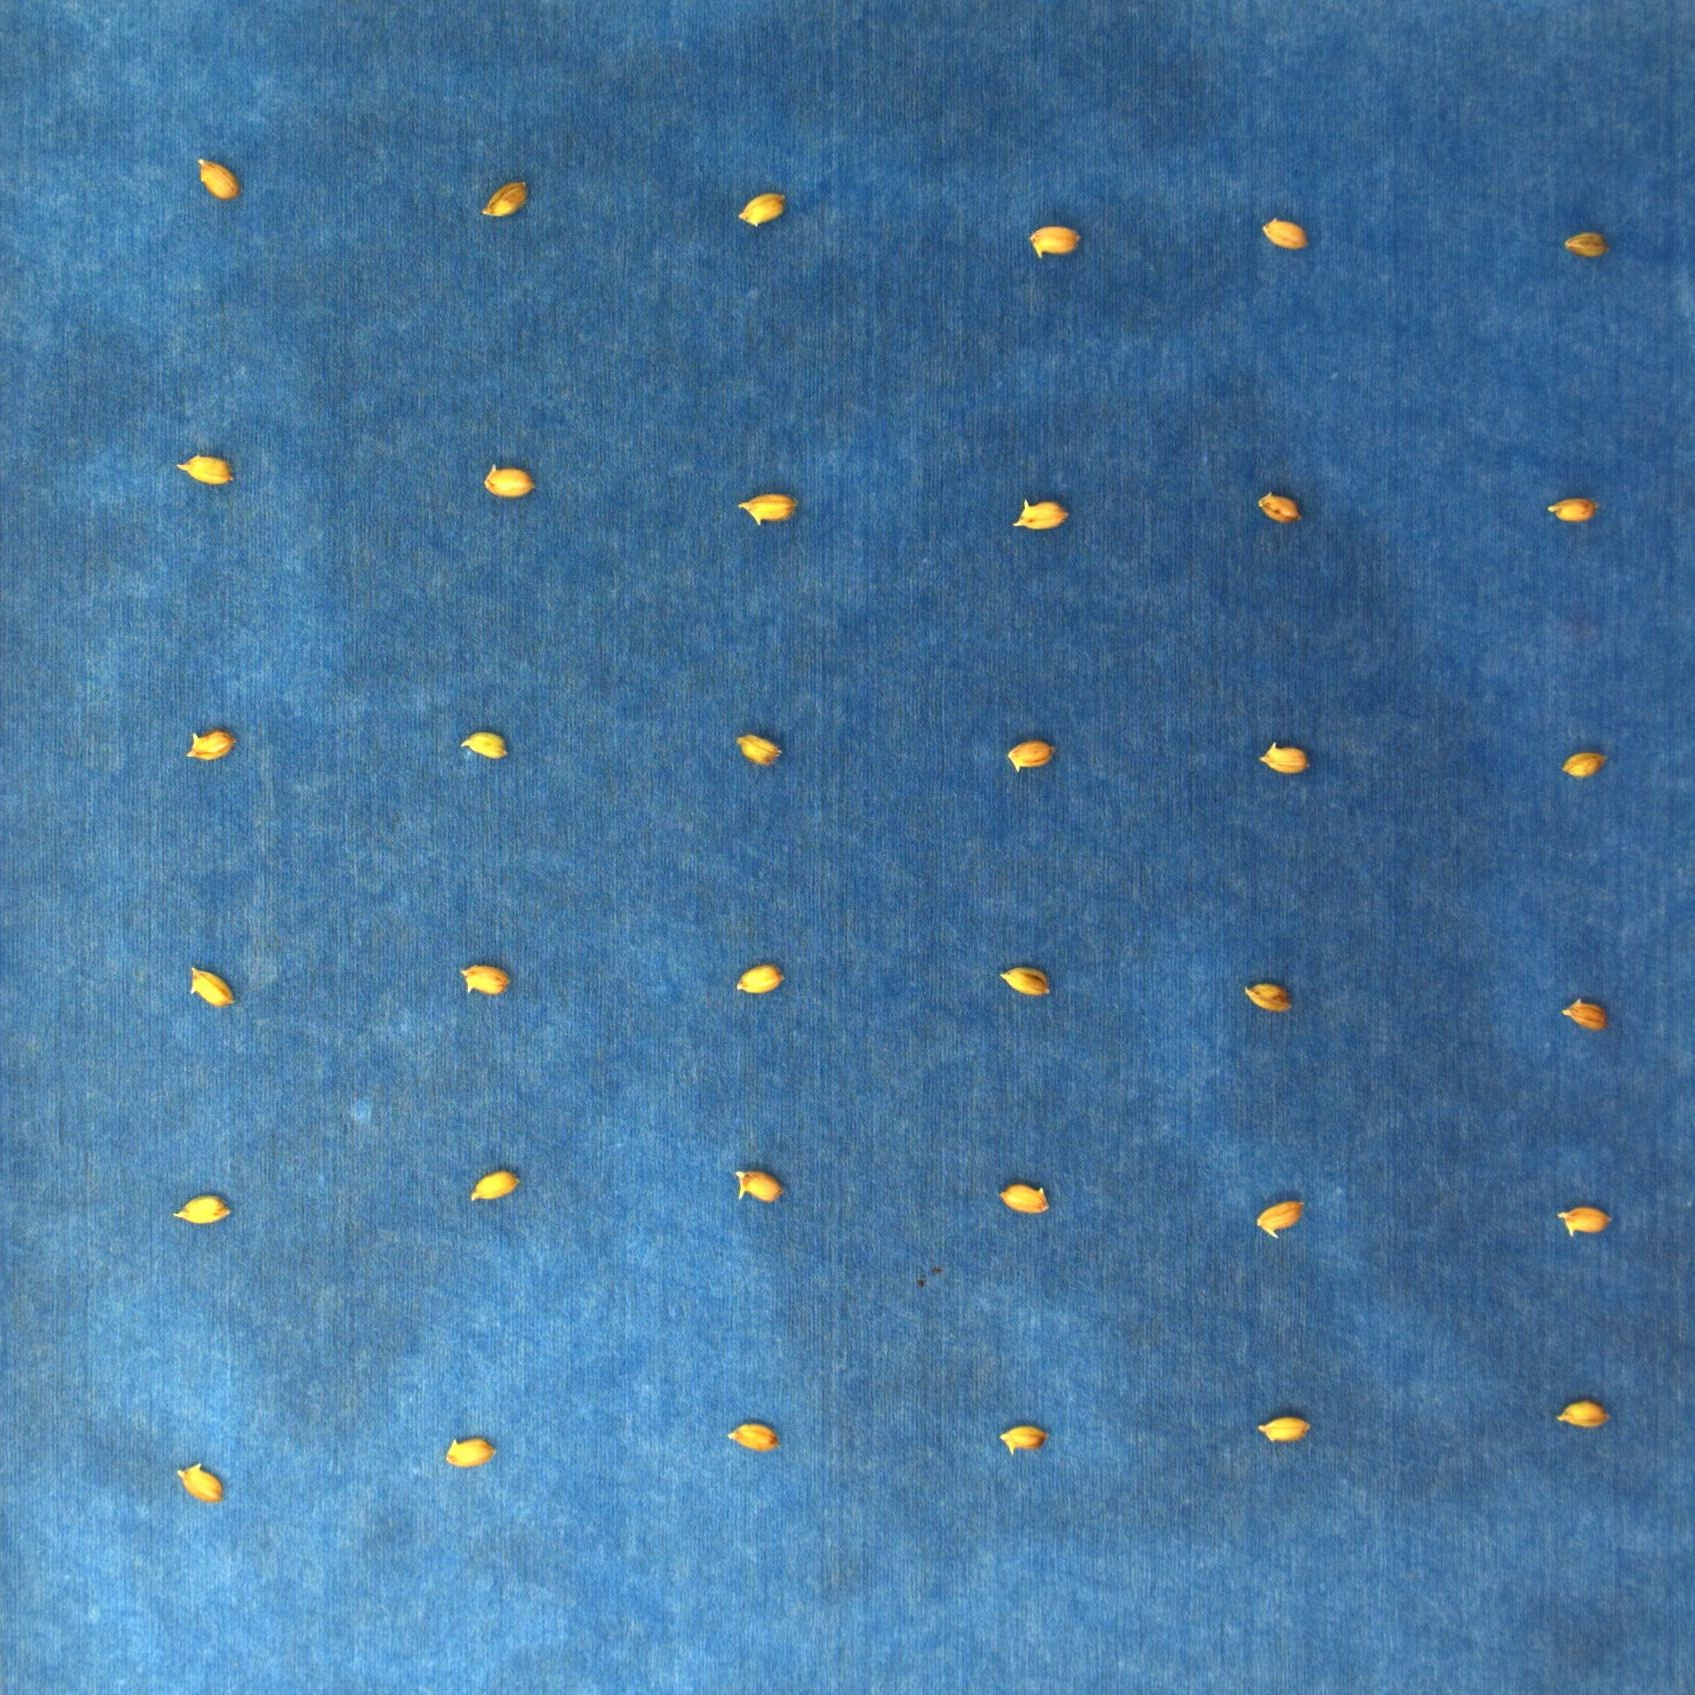not sprout: (196, 157, 241, 203), (736, 494, 796, 528), (1012, 498, 1071, 532), (185, 725, 234, 765), (186, 969, 236, 1009), (1256, 1201, 1305, 1242), (177, 1464, 224, 1506), (736, 191, 787, 228), (1029, 224, 1080, 261), (733, 1167, 784, 1205), (1558, 1205, 1611, 1240), (483, 464, 537, 498), (172, 1194, 231, 1225), (445, 1433, 497, 1468), (175, 455, 231, 487), (483, 180, 528, 220), (1260, 217, 1313, 251), (997, 1183, 1049, 1215), (469, 1170, 518, 1205), (1256, 1417, 1313, 1447), (736, 965, 784, 1000), (459, 967, 509, 1000), (1003, 967, 1052, 1000), (1257, 744, 1309, 775), (1007, 739, 1055, 771), (1557, 1402, 1610, 1431), (1256, 494, 1305, 525), (1563, 1000, 1608, 1034), (725, 1423, 779, 1451), (1243, 986, 1295, 1014), (1000, 1423, 1048, 1453), (737, 736, 781, 768), (459, 731, 509, 759), (1562, 751, 1608, 781), (1548, 497, 1599, 523), (1565, 231, 1610, 259)
